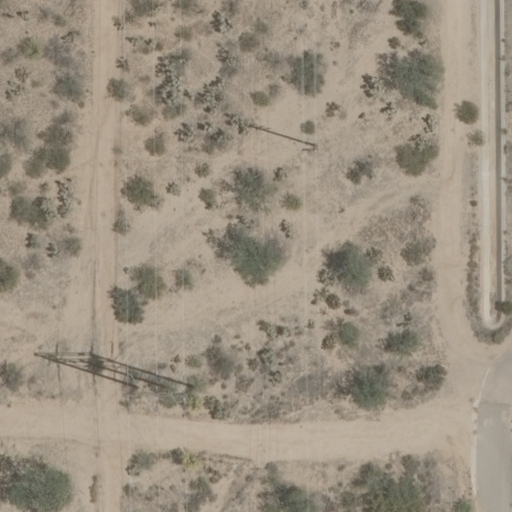DT: (103, 359, 203, 408), (293, 134, 324, 158)
